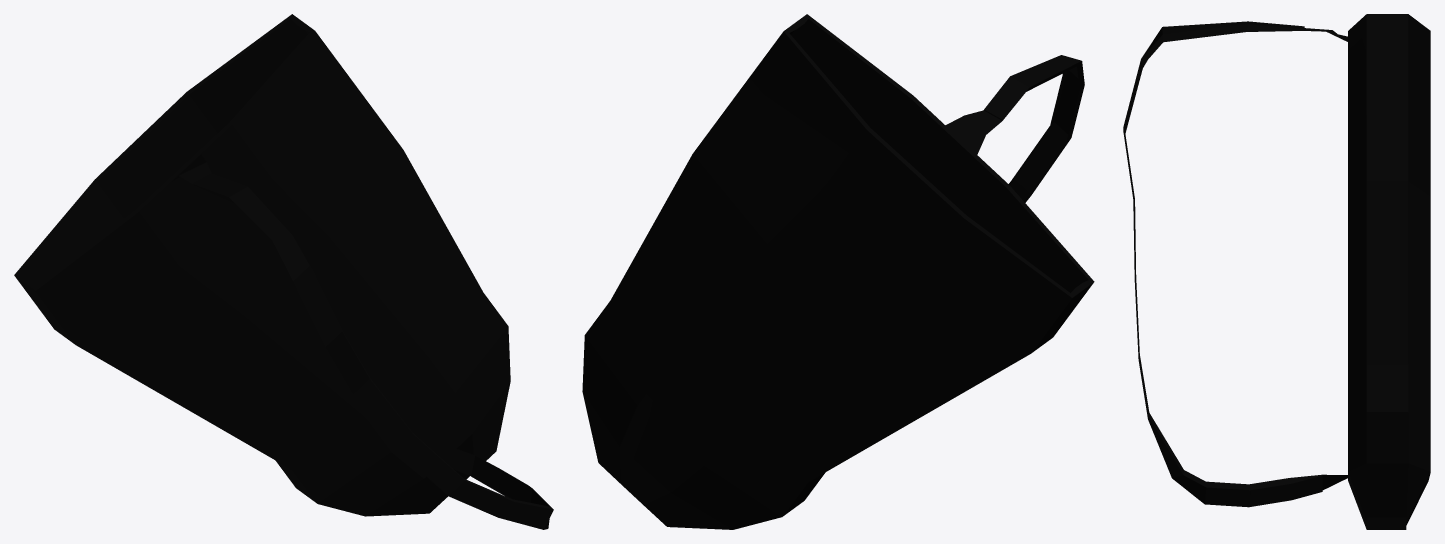
The model's file is Rifle Holster.fbx.
3 views of the same model, side by side, from view 1: azimuth 30°, elevation 25°; view 2: azimuth 150°, elevation 25°; view 3: azimuth 270°, elevation 25° (orthographic). The views are drawn at different scales.
Visible parts, largest first — view 1: Rifle Holster.001; view 2: Rifle Holster.001; view 3: Rifle Holster.001.
Part boxes in pixels (x1,y1,x2,y2): Rifle Holster.001: (14,14,553,529); Rifle Holster.001: (582,14,1094,529); Rifle Holster.001: (1123,14,1430,529).
Bounding box in the file's own units: 0.5302 × 0.5449 × 0.3265.
